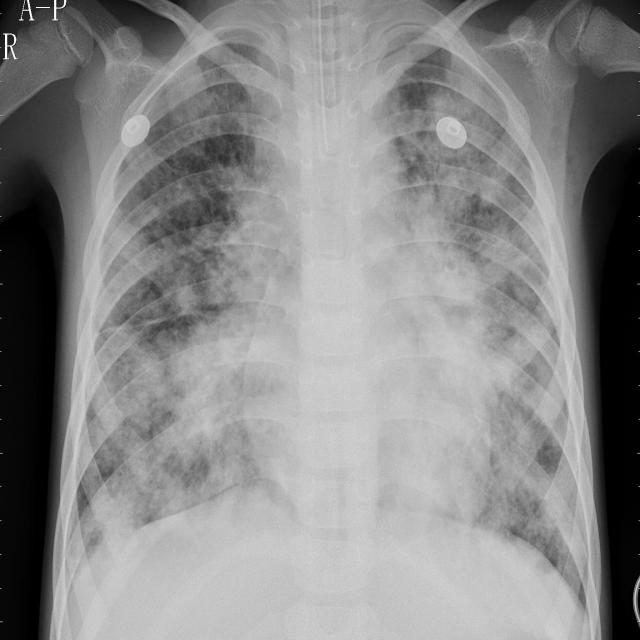high-pneumonia: (96, 321, 252, 543), (186, 90, 290, 305), (486, 349, 571, 540)
low-pneumonia: (385, 73, 542, 281)
